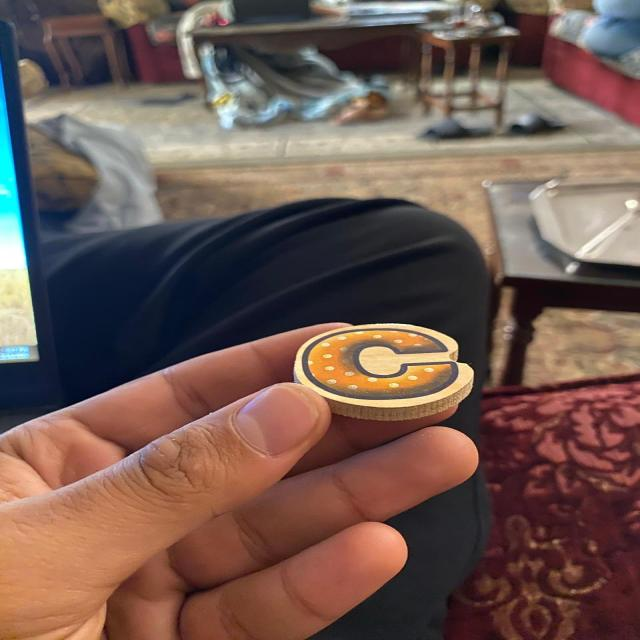C: (294, 323, 473, 420)
